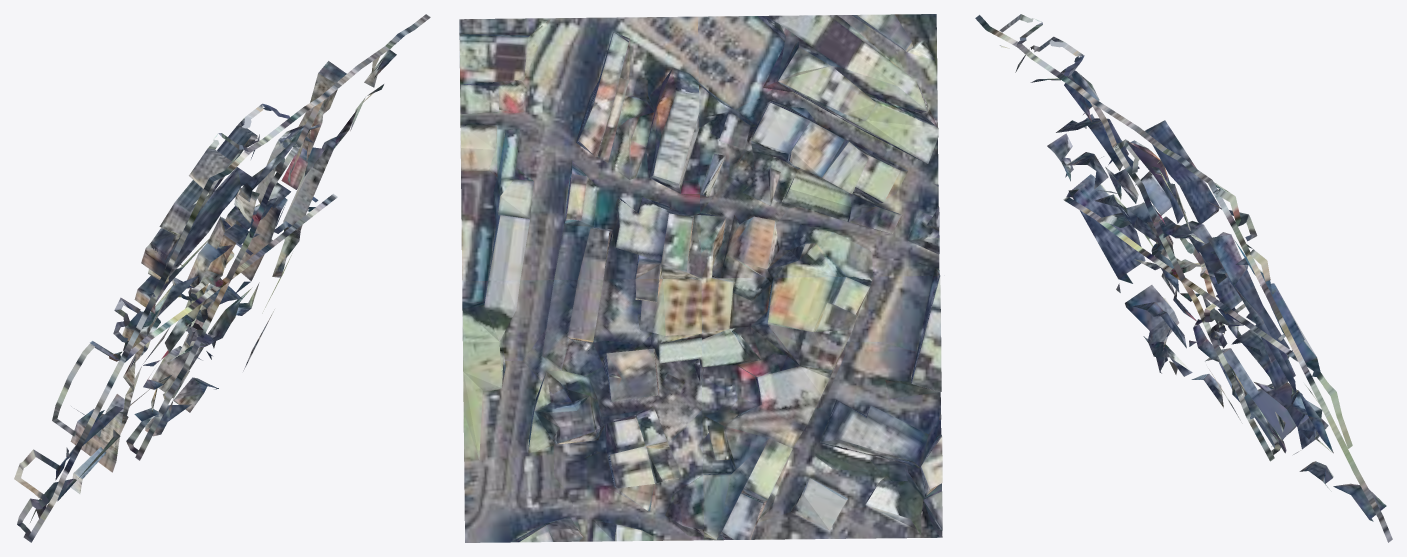
The picture shows the model from 3 angles, left to right: view 1: azimuth 30°, elevation 25°; view 2: azimuth 150°, elevation 25°; view 3: azimuth 270°, elevation 25°; orthographic projection. The views are drawn at different scales.
Bounding box in the file's own units: 311 × 286 × 257.
2 materials, 2 textured.
